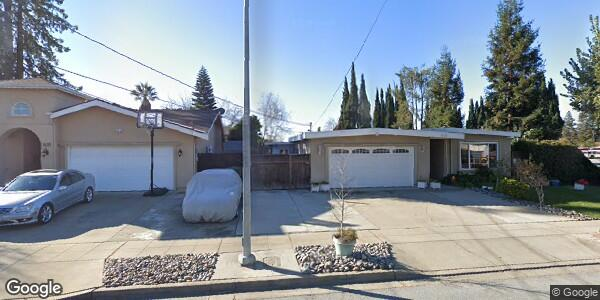Steel_Pole: (235, 1, 260, 270)
